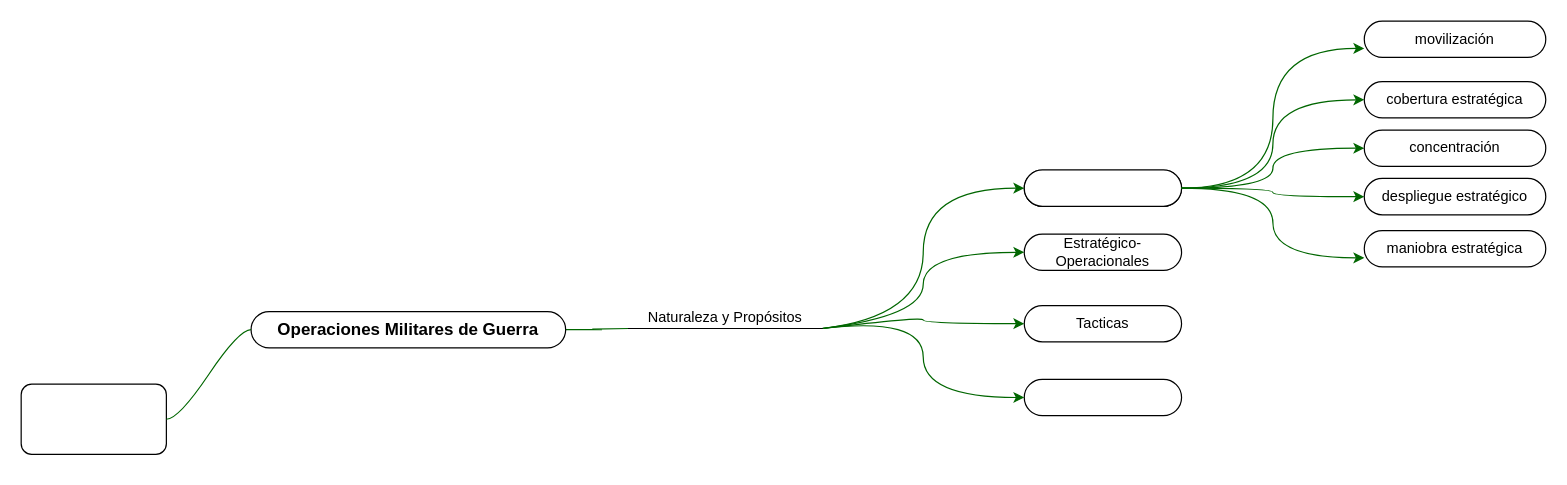
This 1567x485 diagram has some shape labels left out. Each missing label, with the centre of its shape:
"Estrategicas" goes at point (1102, 187).
"Logísticas" goes at point (1102, 397).
"Operaciones Militares" goes at point (93, 418).
